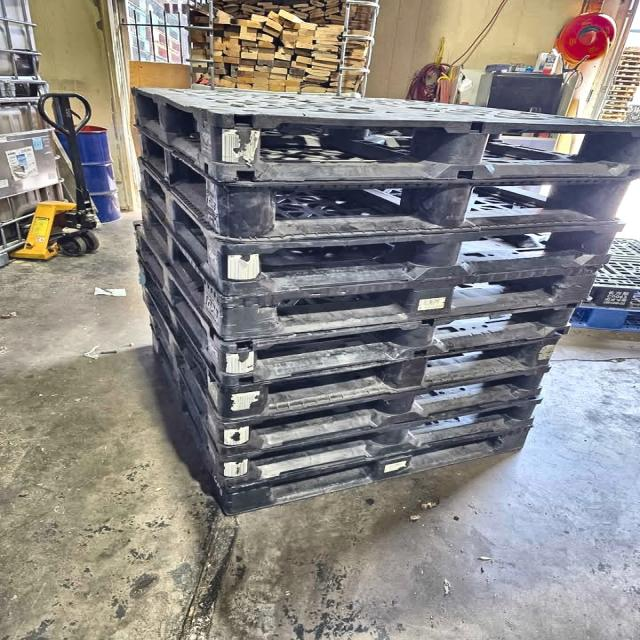igps: (129, 84, 638, 188), (214, 413, 539, 520), (213, 330, 568, 427), (210, 363, 556, 461), (215, 391, 549, 492), (217, 260, 608, 346), (202, 220, 630, 298), (207, 173, 640, 242), (212, 300, 585, 378)
